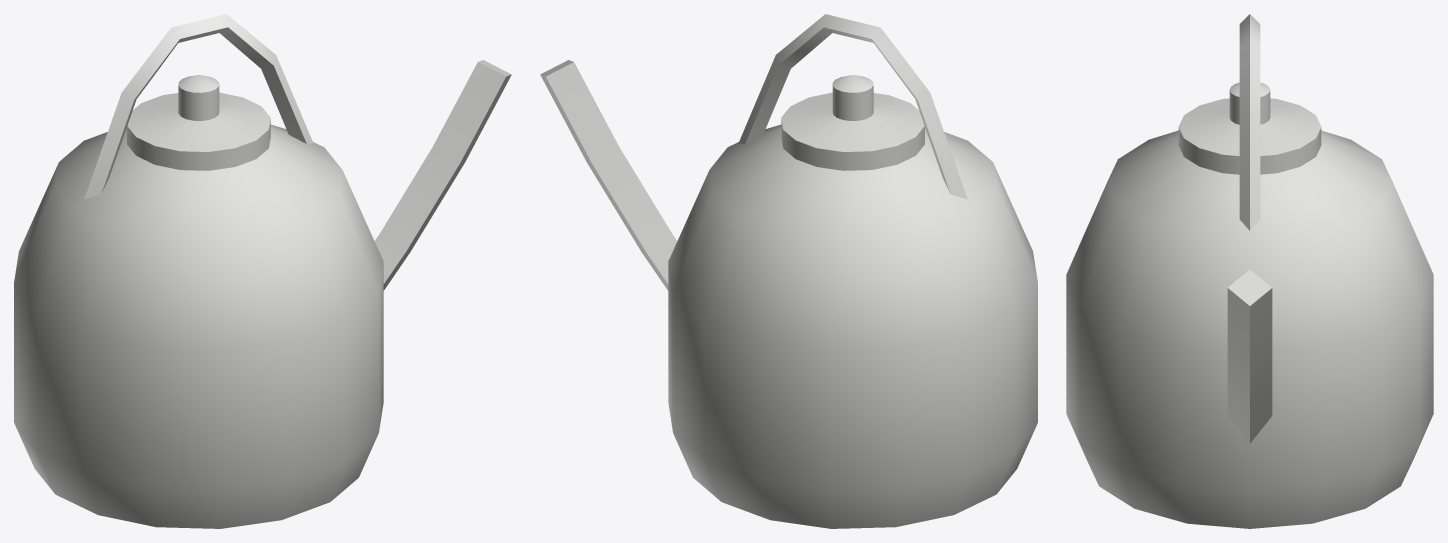
The model's file is tea_kettle.glb.
3 views of the same model, side by side, from view 1: azimuth 30°, elevation 25°; view 2: azimuth 150°, elevation 25°; view 3: azimuth 270°, elevation 25° (orthographic).
Parts seen in each view (by area): view 1: tea_kettle_alu; view 2: tea_kettle_alu; view 3: tea_kettle_alu.
Boxes of the visible parts, x1,y1,x2,y2 form: tea_kettle_alu: (14,14,511,528); tea_kettle_alu: (540,14,1037,528); tea_kettle_alu: (1066,14,1433,528).
Size of the model in its own units: 0.529 by 0.4676 by 0.36.
Materials: 1 (1 with a texture image).
